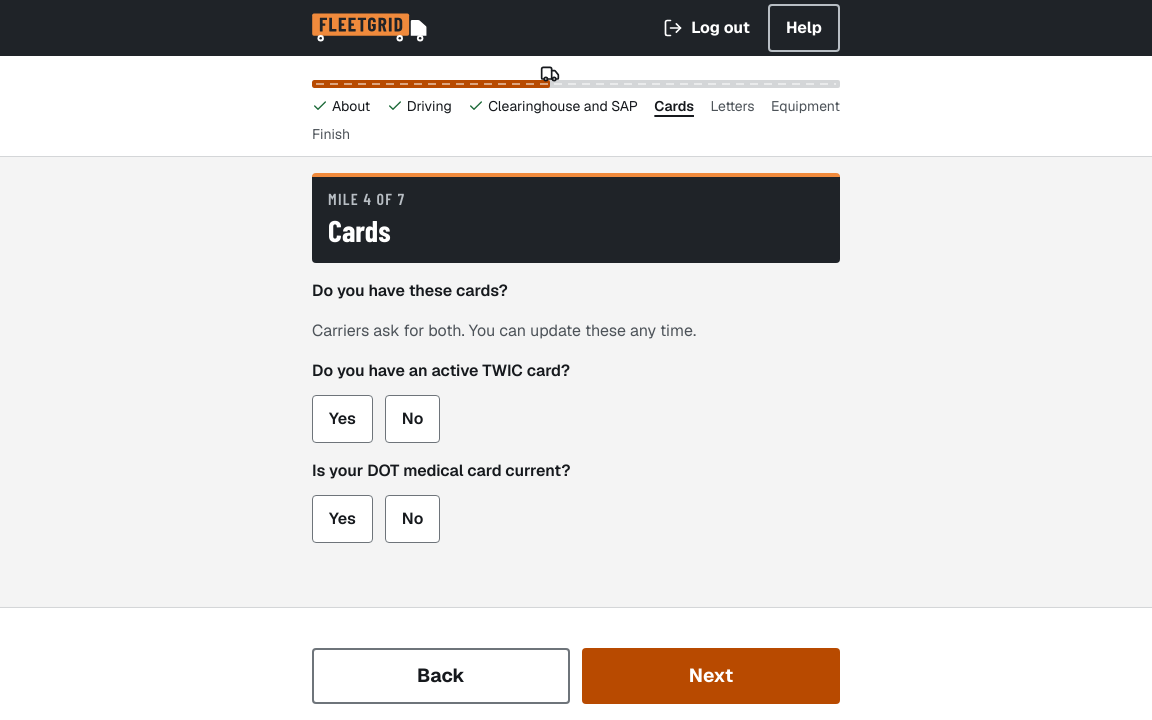
Test: Cards page › asks TWIC and medical card as two yes-or-no questions, both required
The width and height of the screenshot is (1152, 720).
expect the text "Carriers ask for both. You can update these any time." is shown: met, box [312,320,696,341]
Click the button "Next": point(711, 676) [582,648,840,704]
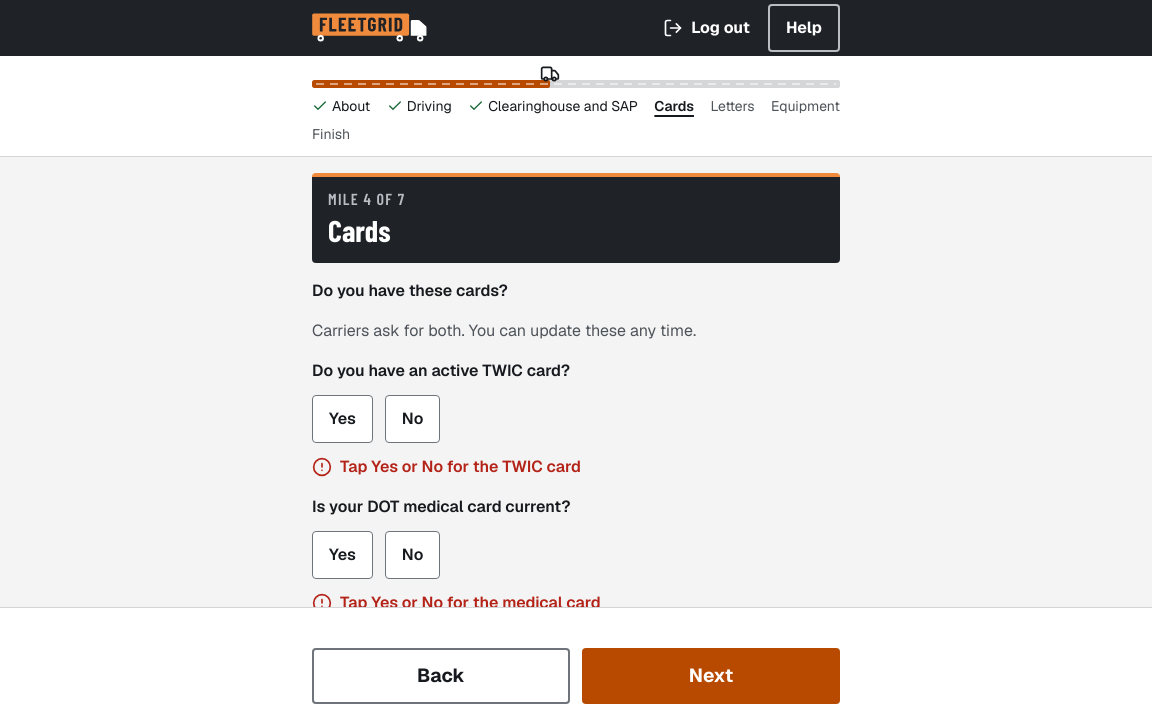
Click the button "Yes" below "Do you have an active TWIC card?": point(342, 419) [312,395,373,443]
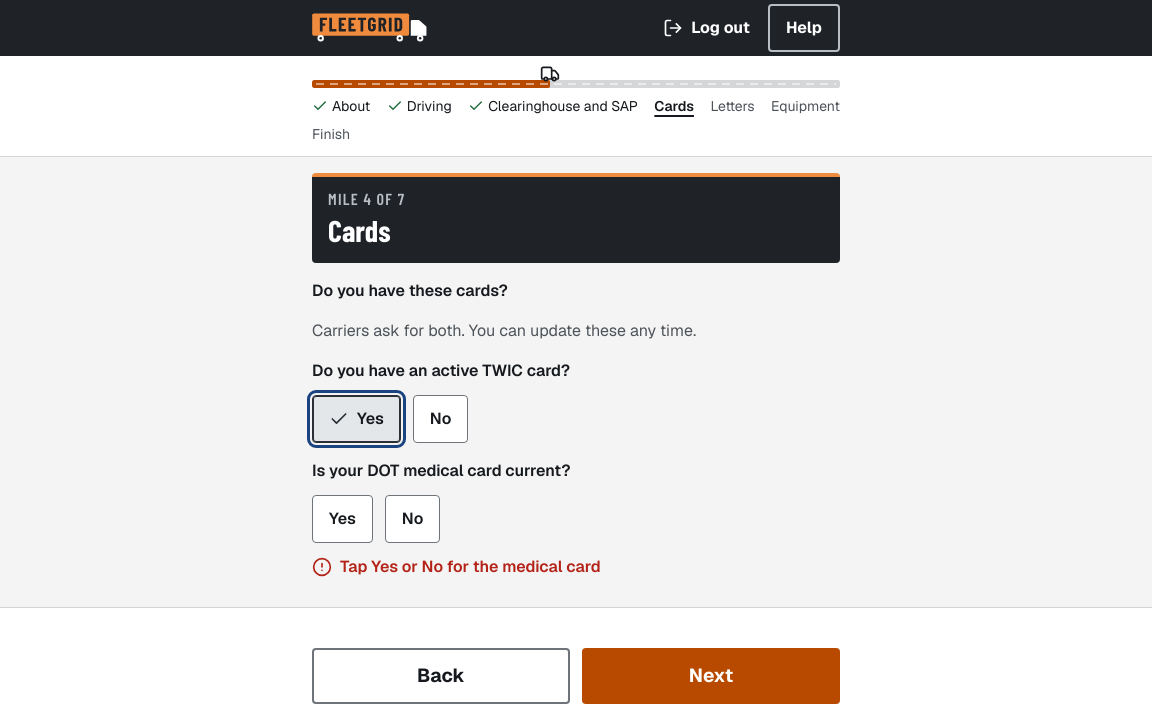
Click the button "No" below "Is your DOT medical card current?": point(413, 519) [385,495,440,543]
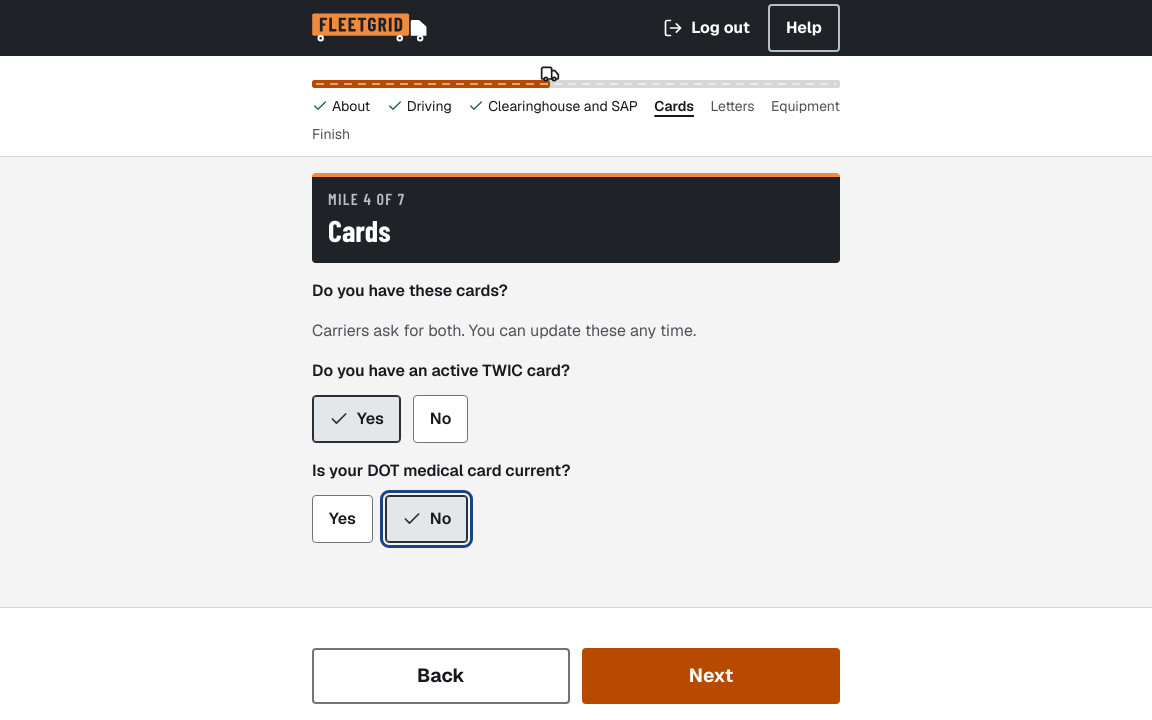
expect the button "Yes" below "Do you have an active TWIC card?" is pressed: met, box [312,395,401,443]
expect the button "No" below "Is your DOT medical card current?" is pressed: met, box [385,495,468,543]
Click the button "Next": point(711, 676) [582,648,840,704]
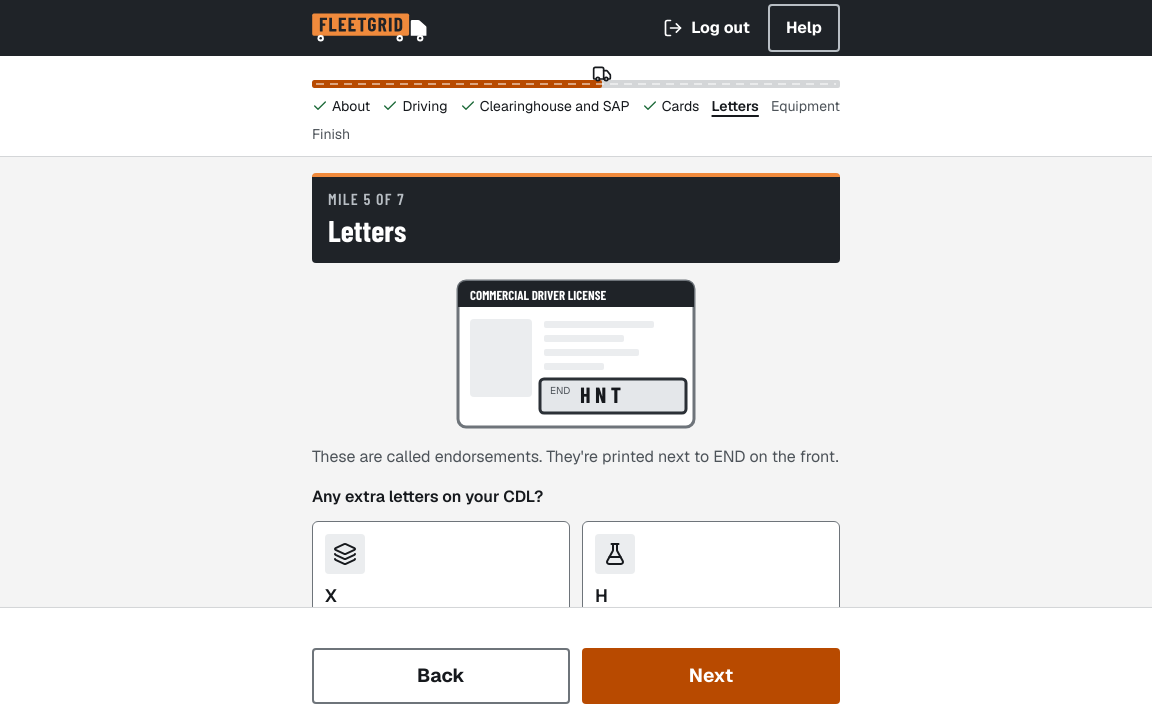
expect the heading reads "Letters": met, box [328,212,406,248]
